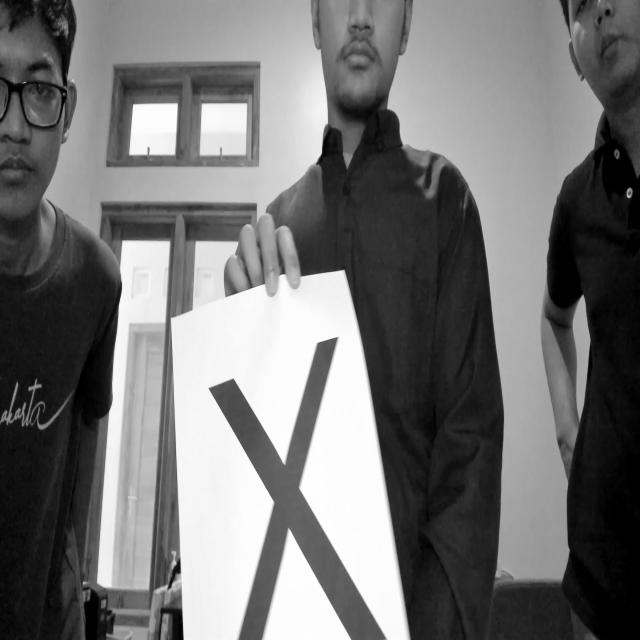x: (208, 316, 394, 640)
